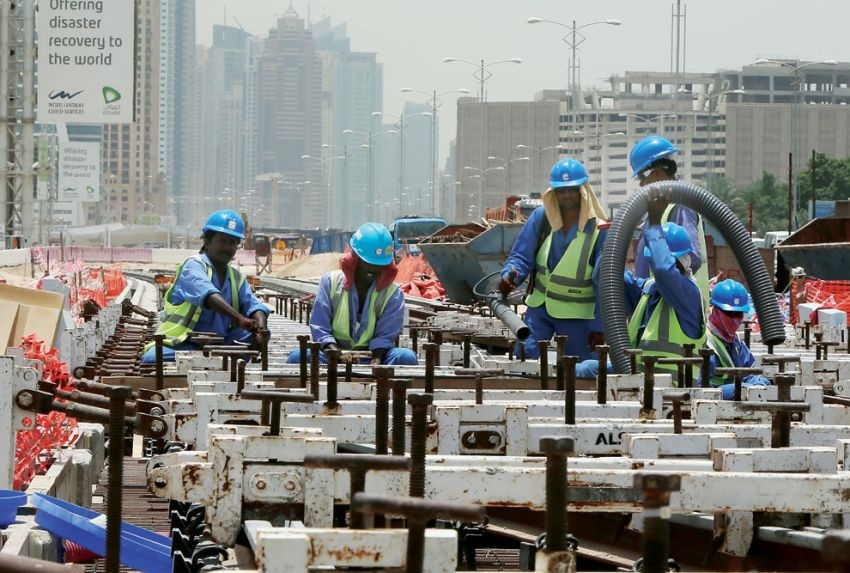blue: (343, 222, 395, 284), (201, 206, 245, 265), (630, 134, 679, 183), (548, 157, 589, 211), (652, 220, 691, 275), (709, 280, 748, 334)
